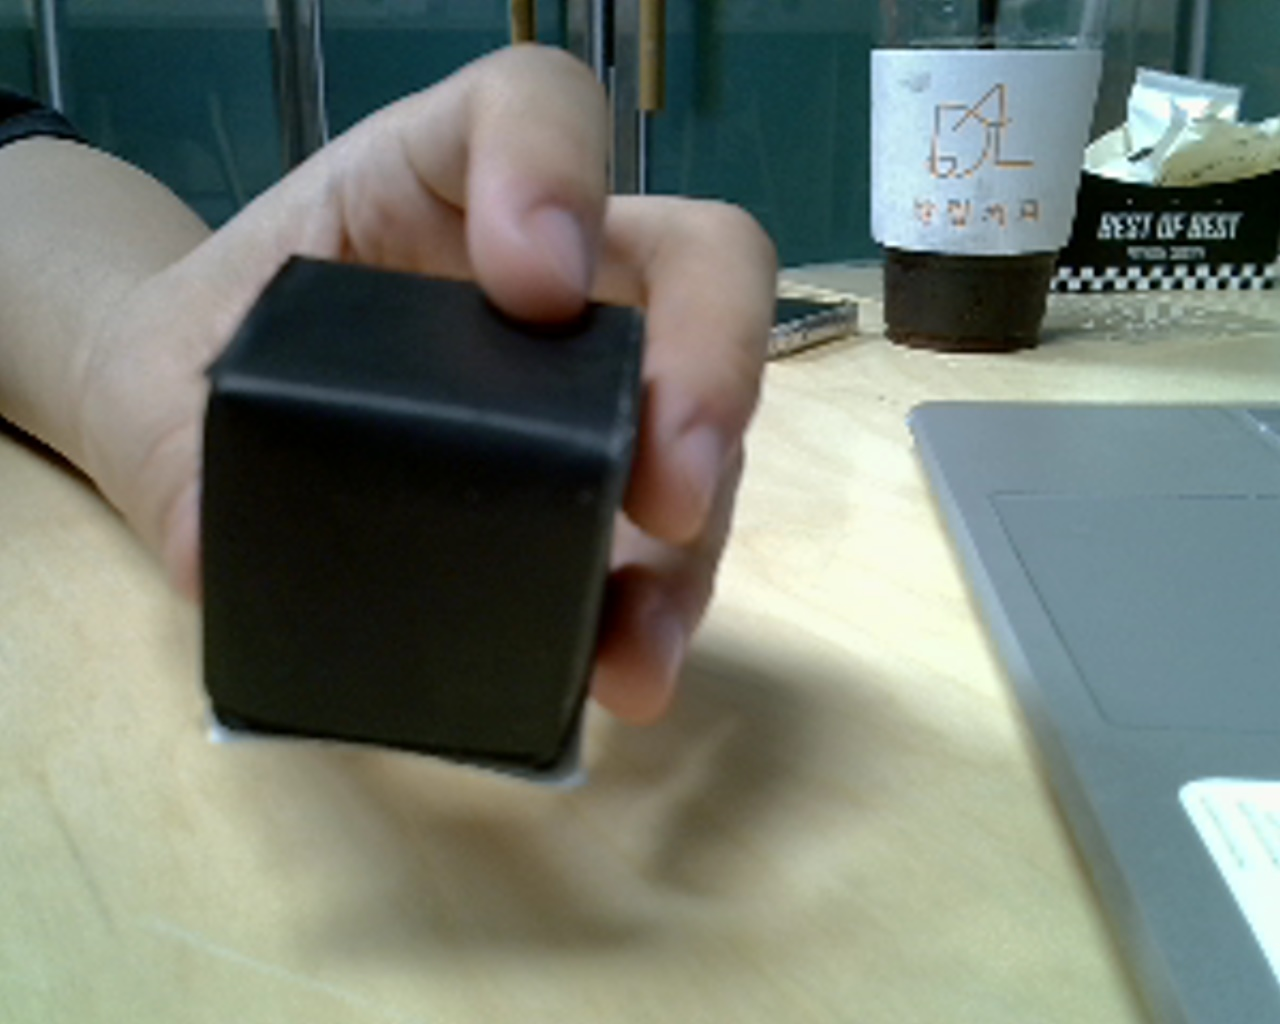blackbox: (161, 199, 701, 817)
